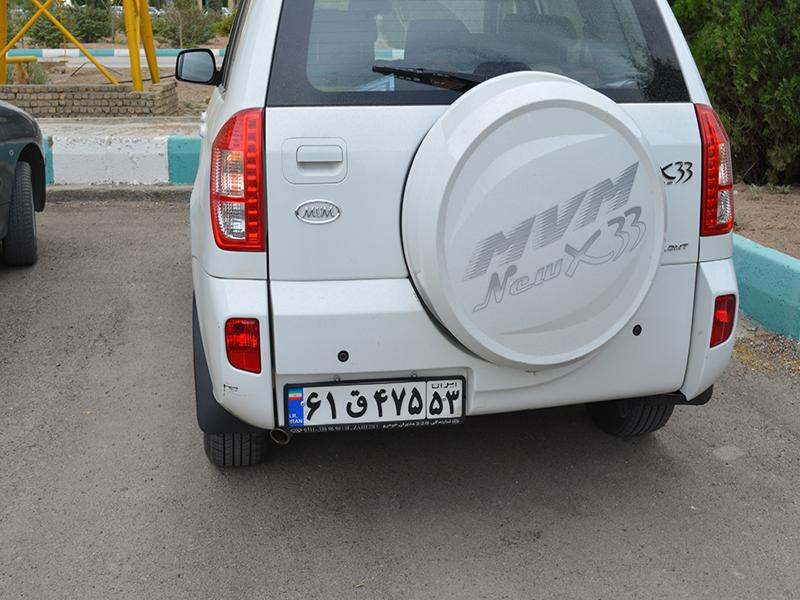Plate: (282, 379, 469, 424)
